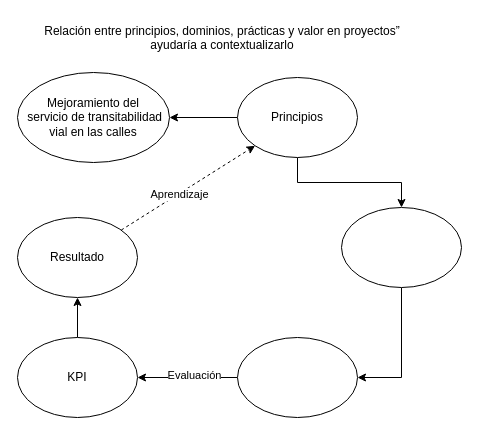
This 479x435 diagram has some shape labels left out. The centre of each missing label's shape, as x and y in pixels:
"Dominios" goes at (x=401, y=247).
"Práctica" goes at (x=297, y=377).
